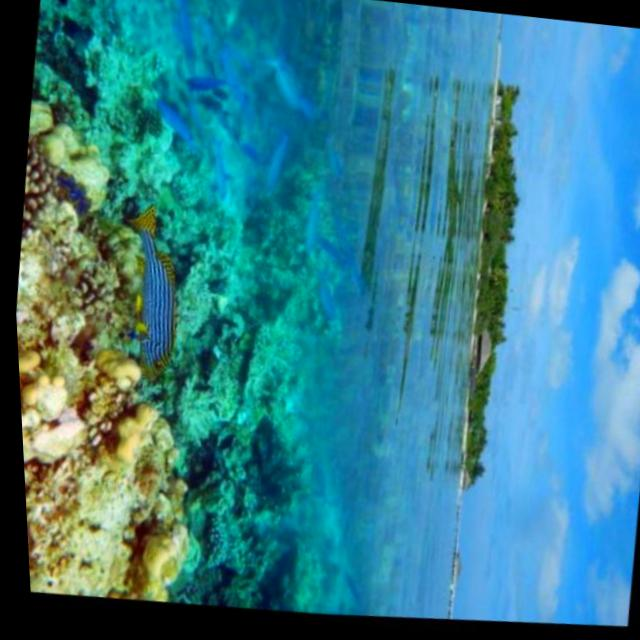Dead Coral: (0, 1, 398, 626)
